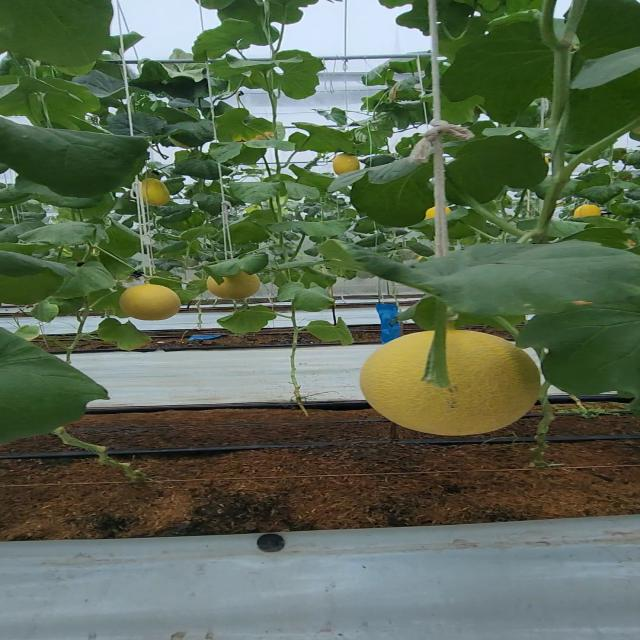Front-melon: (358, 330, 543, 432)
Rear-melon: (122, 285, 182, 318), (216, 275, 264, 299), (137, 174, 168, 206), (334, 156, 362, 172)
